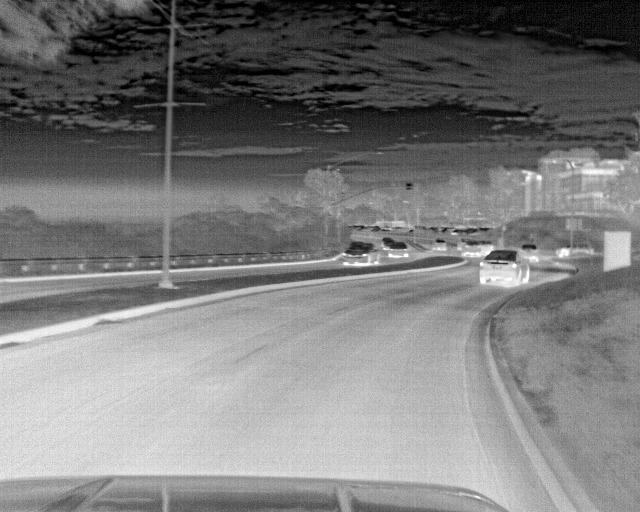car: (479, 249, 530, 285), (342, 243, 381, 265), (555, 239, 593, 258), (461, 241, 482, 257), (521, 244, 540, 261), (388, 242, 408, 257), (478, 240, 493, 255), (431, 239, 448, 251), (457, 238, 469, 250), (383, 239, 395, 250), (380, 236, 391, 246), (414, 225, 427, 233), (464, 228, 478, 235), (451, 230, 467, 236), (369, 226, 380, 232), (429, 227, 439, 233), (382, 226, 392, 231)
light: (414, 183, 418, 189)
sign: (565, 218, 581, 229), (406, 183, 413, 189)
